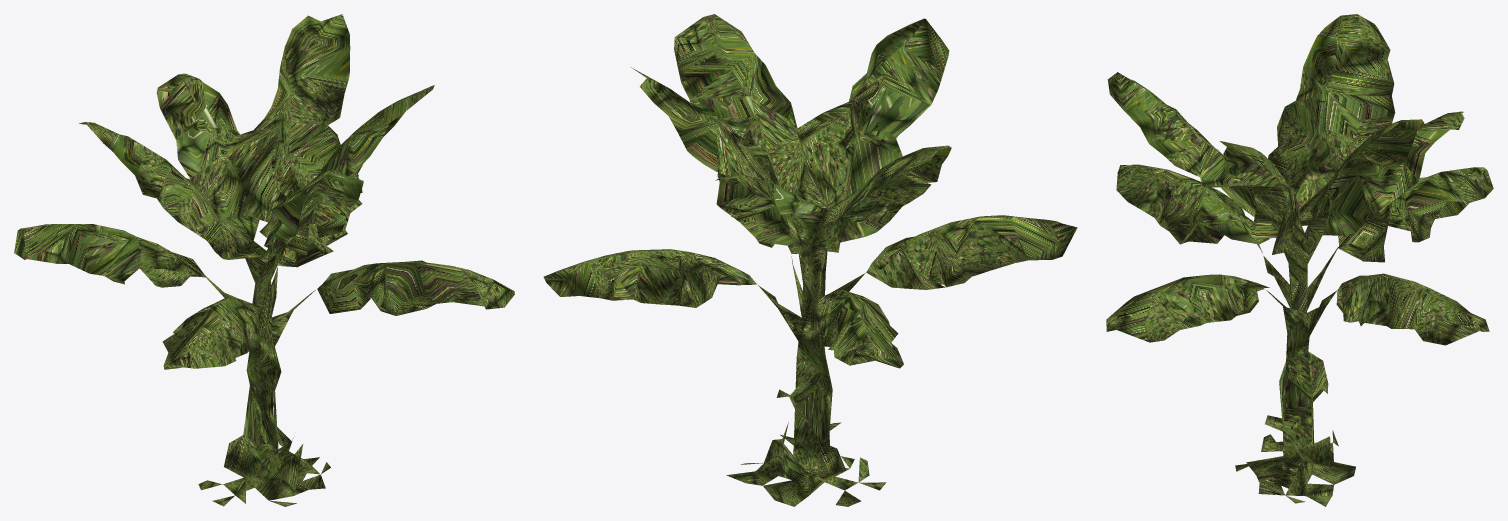
File: banana2.glb
The picture shows the model from 3 angles, left to right: view 1: azimuth 30°, elevation 25°; view 2: azimuth 150°, elevation 25°; view 3: azimuth 270°, elevation 25°; orthographic projection. The views are drawn at different scales.
Bounding box in the file's own units: 1.66 × 1.89 × 1.61.
Materials: 1 (1 with a texture image).
